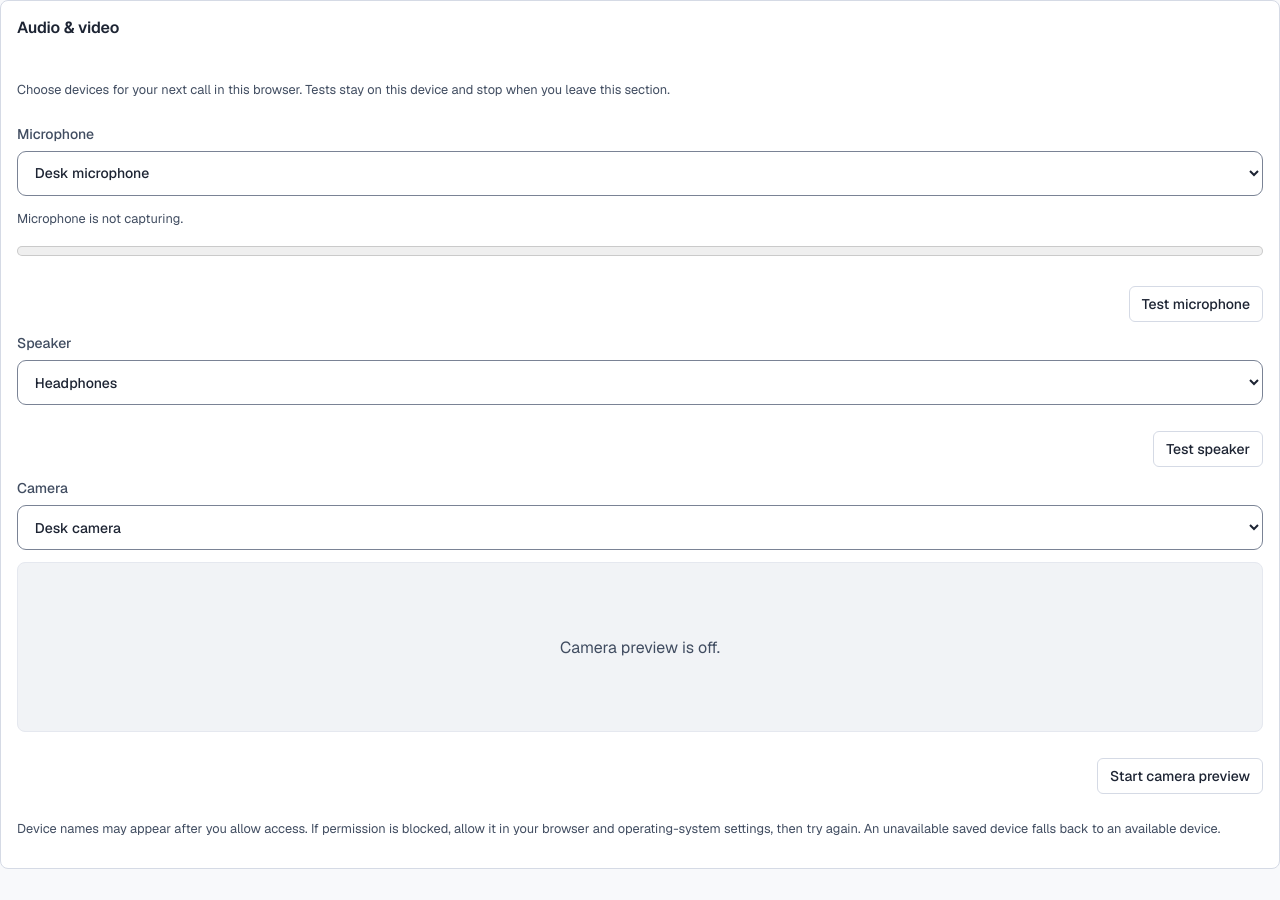
Test: AudioVideoSettings › releases capture once if creating its audio context fails
Click the button "Test microphone" at coordinates (1196, 304), box [1129,286,1263,322]
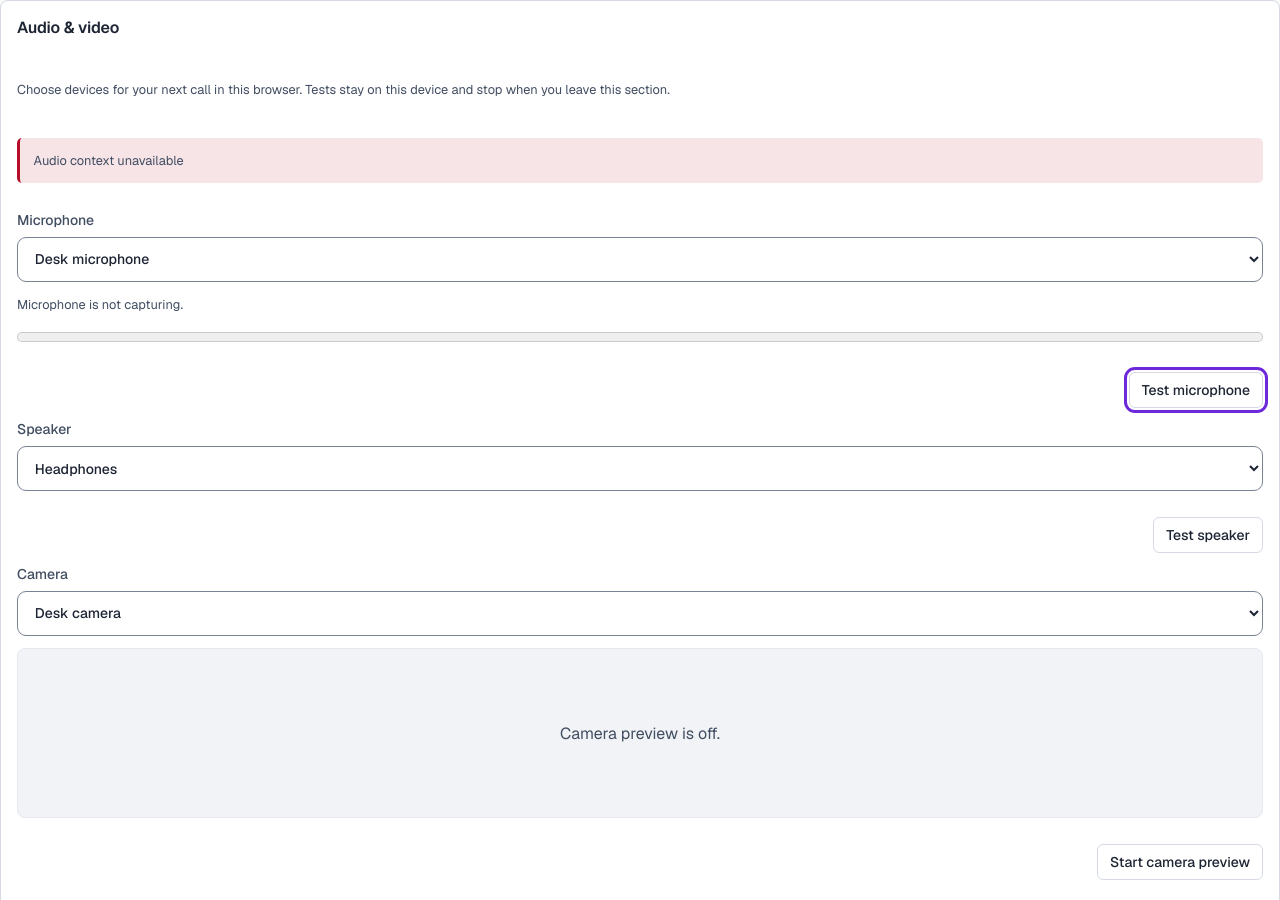
Check: the message reads "Audio context unavailable", box [34,152,184,168]
